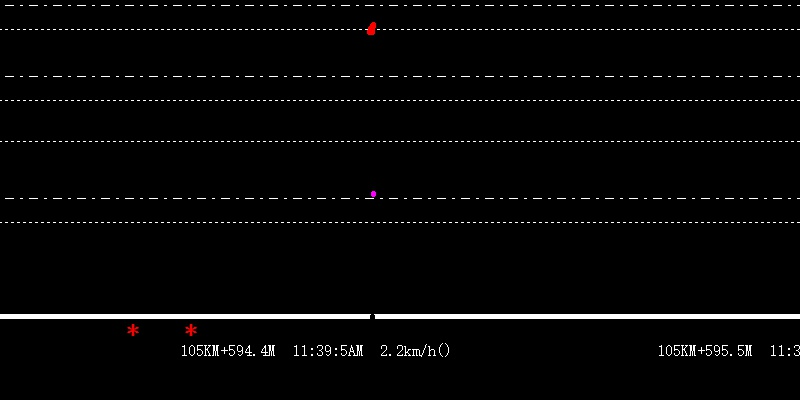face_1: (366, 20, 377, 38)
star: (125, 320, 140, 339), (183, 321, 197, 338)
